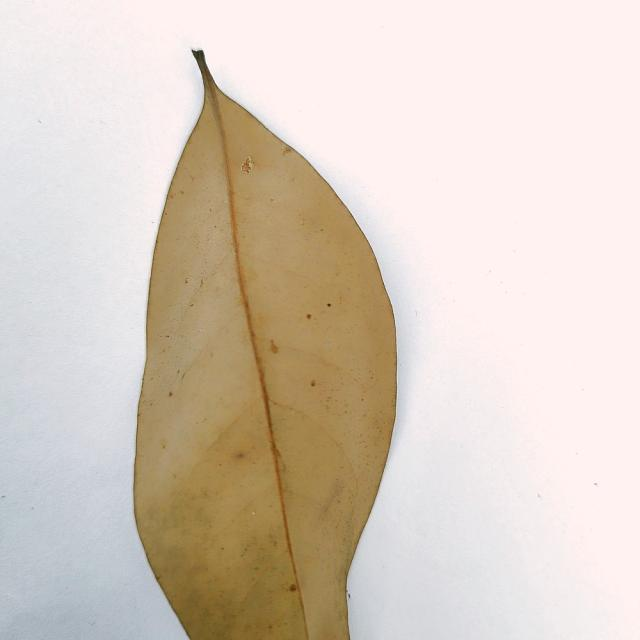Dry_Leaf-Lychee: (132, 53, 398, 639)
